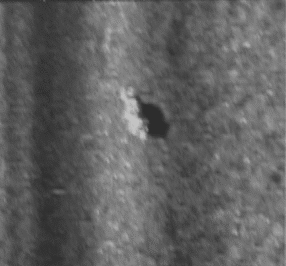man: (116, 84, 152, 144)
